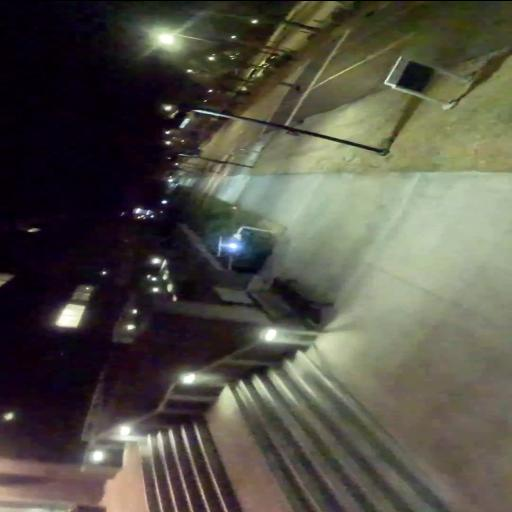uav: (214, 222, 246, 272)
